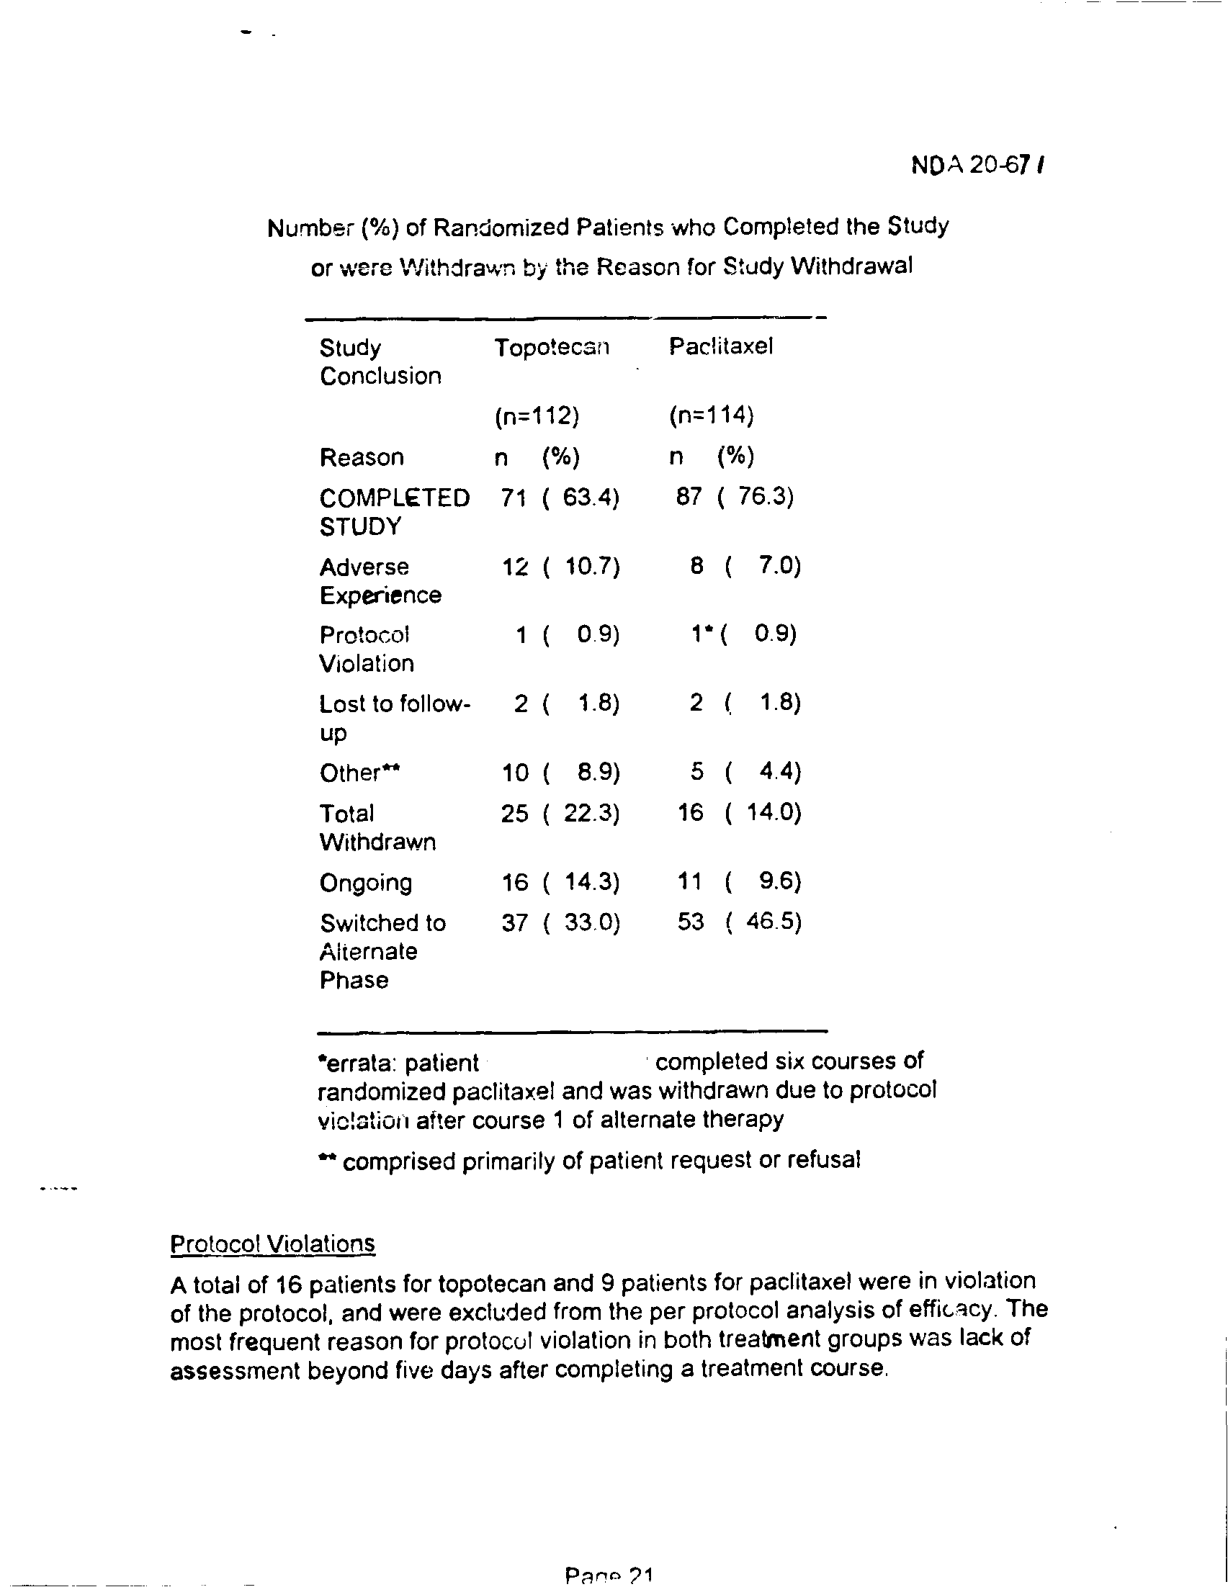partial_lined: (304, 313, 835, 1036)
